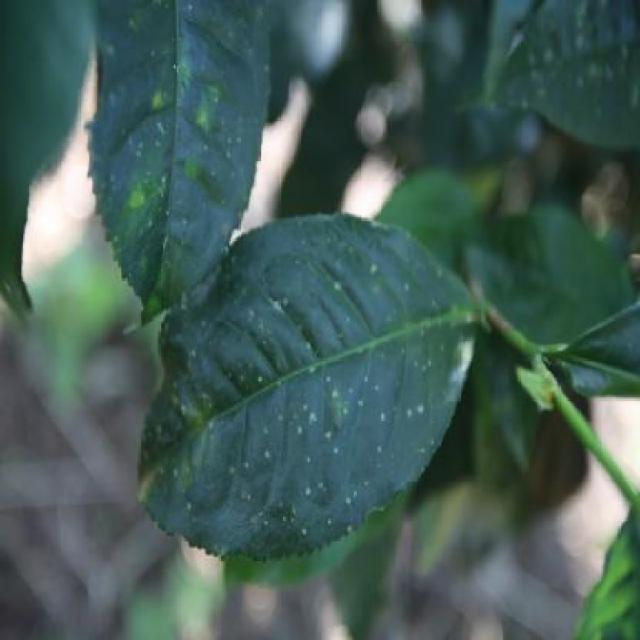White spot of tea: (142, 209, 486, 571)
